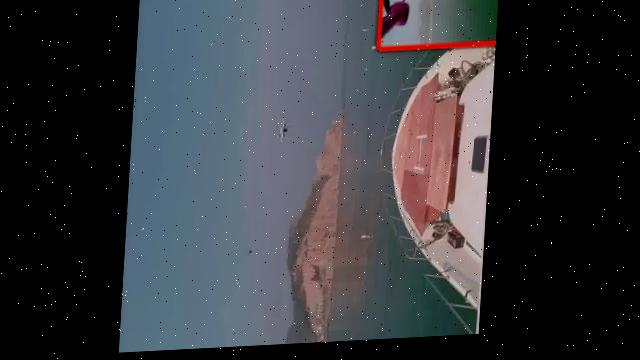drone: (272, 115, 299, 149)
